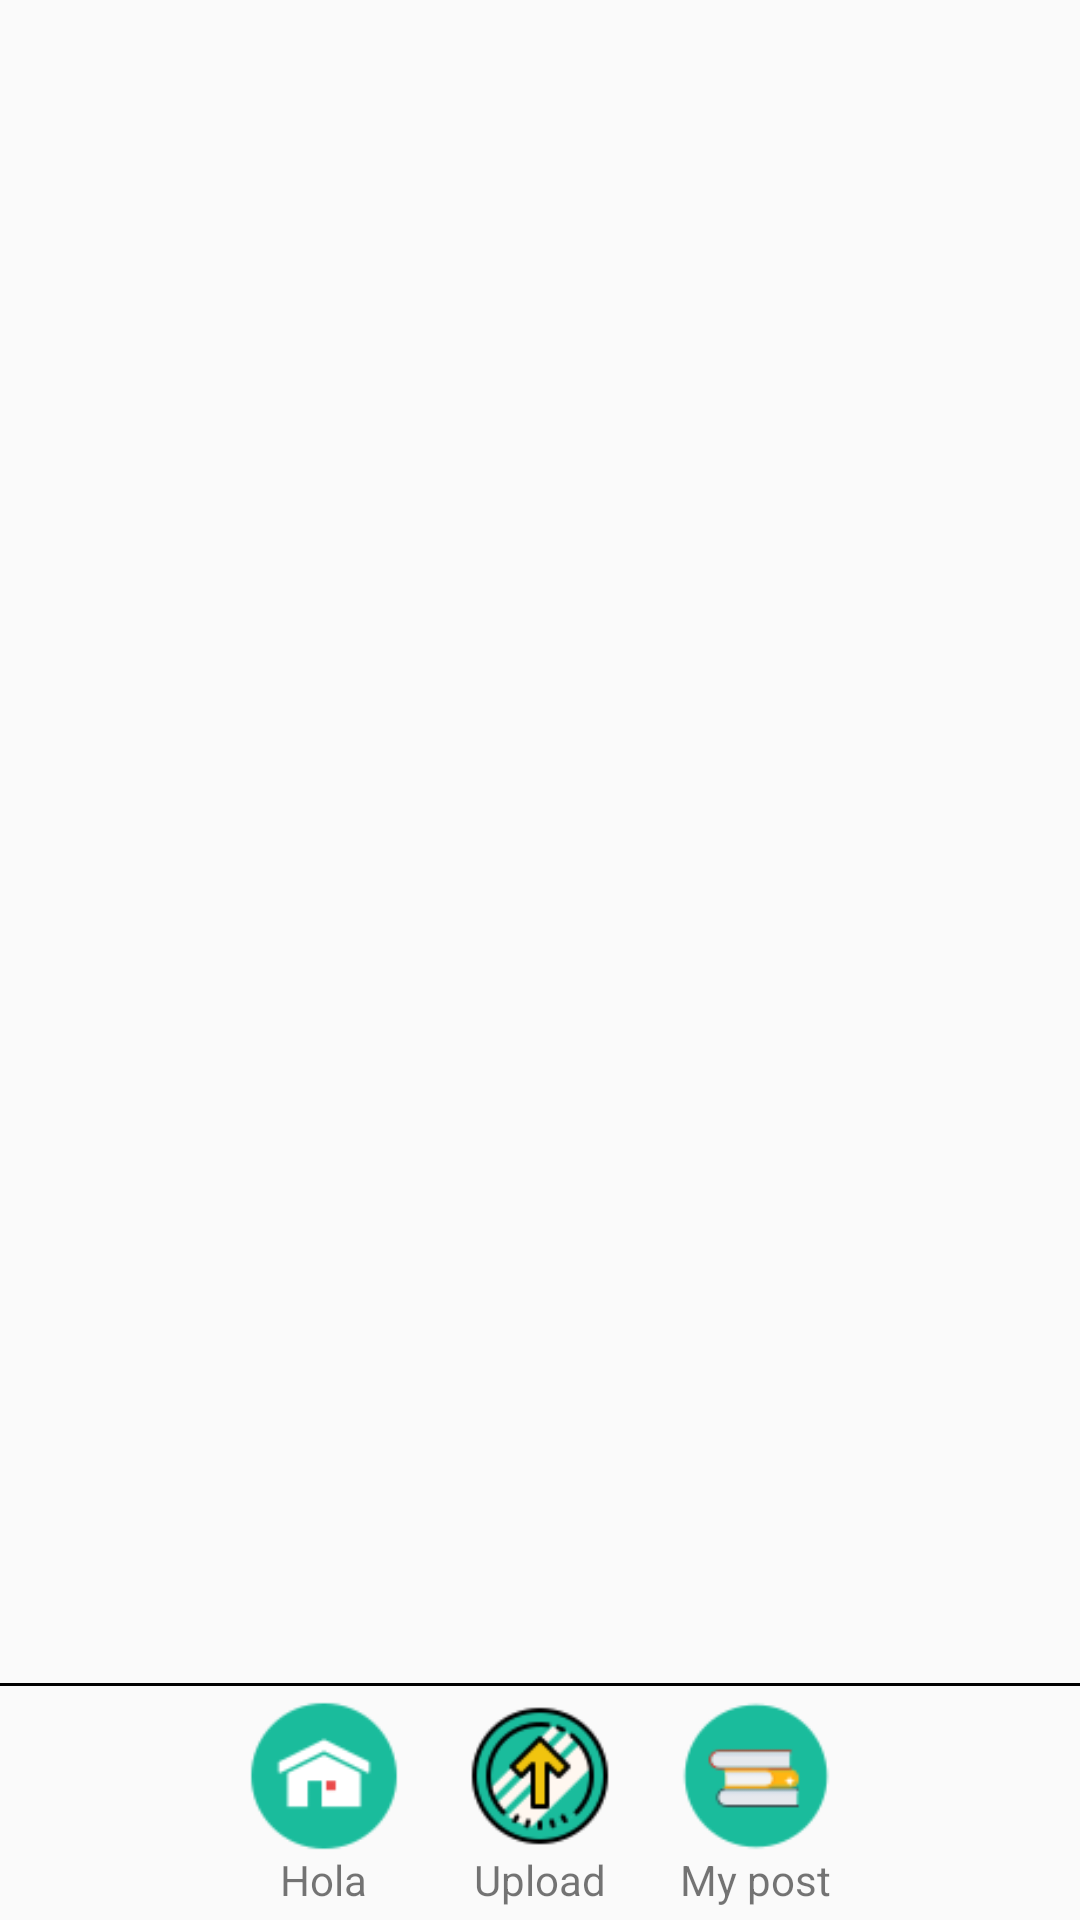

Screen size 1080×1920. Icon name, then its box in pixels as (x1, y1, x2, y2):
book: (683, 1703, 829, 1849)
home: (250, 1702, 398, 1850)
update: (471, 1707, 609, 1845)
